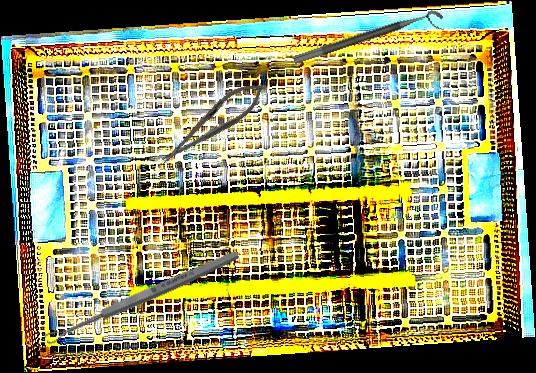Fixation Ring: (292, 7, 447, 77)
Needle Holder: (153, 73, 272, 173)
Surgical Spoon: (43, 247, 241, 347)
